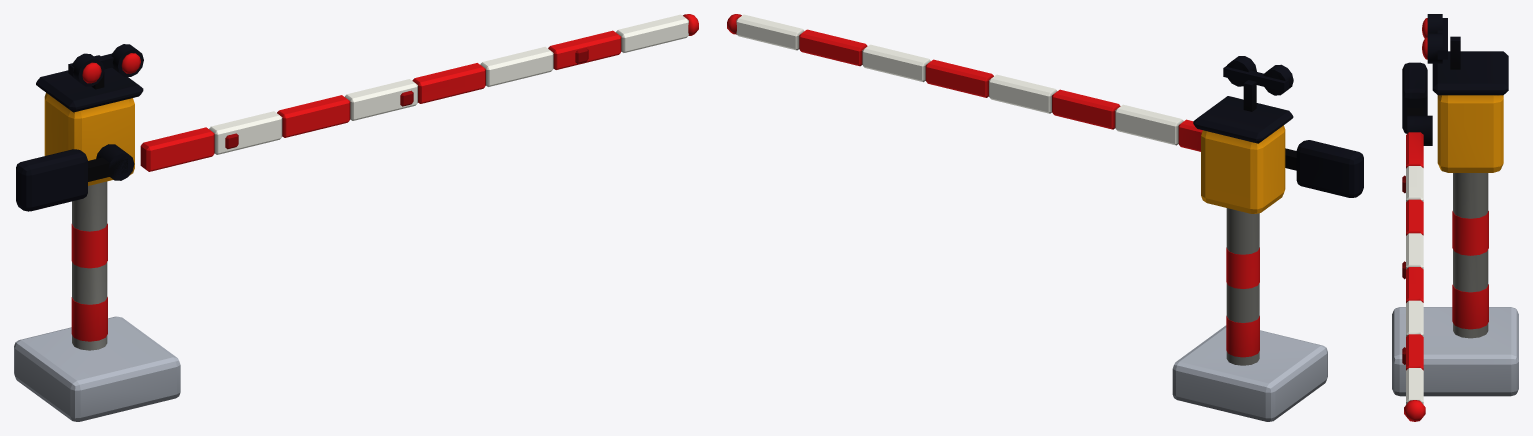
File: Barrier_Crossing.fbx
3 views of the same model, side by side, from view 1: azimuth 30°, elevation 25°; view 2: azimuth 150°, elevation 25°; view 3: azimuth 270°, elevation 25° (orthographic). The views are drawn at different scales.
Parts seen in each view (by area): view 1: Barrier_Crossing, Arm; view 2: Barrier_Crossing, Arm; view 3: Barrier_Crossing, Arm.
Boxes of the visible parts, left/top/right/bottom form: Barrier_Crossing: left=14, top=44, right=180, bottom=421; Arm: left=16, top=14, right=698, bottom=211; Barrier_Crossing: left=1172, top=56, right=1327, bottom=421; Arm: left=727, top=14, right=1363, bottom=197; Barrier_Crossing: left=1392, top=14, right=1518, bottom=396; Arm: left=1402, top=62, right=1432, bottom=421.
Size of the model in its own units: 3.1 by 1.51 by 0.5.
